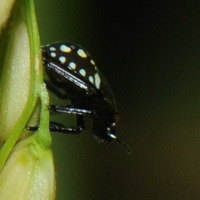insect: (42, 42, 130, 151)
